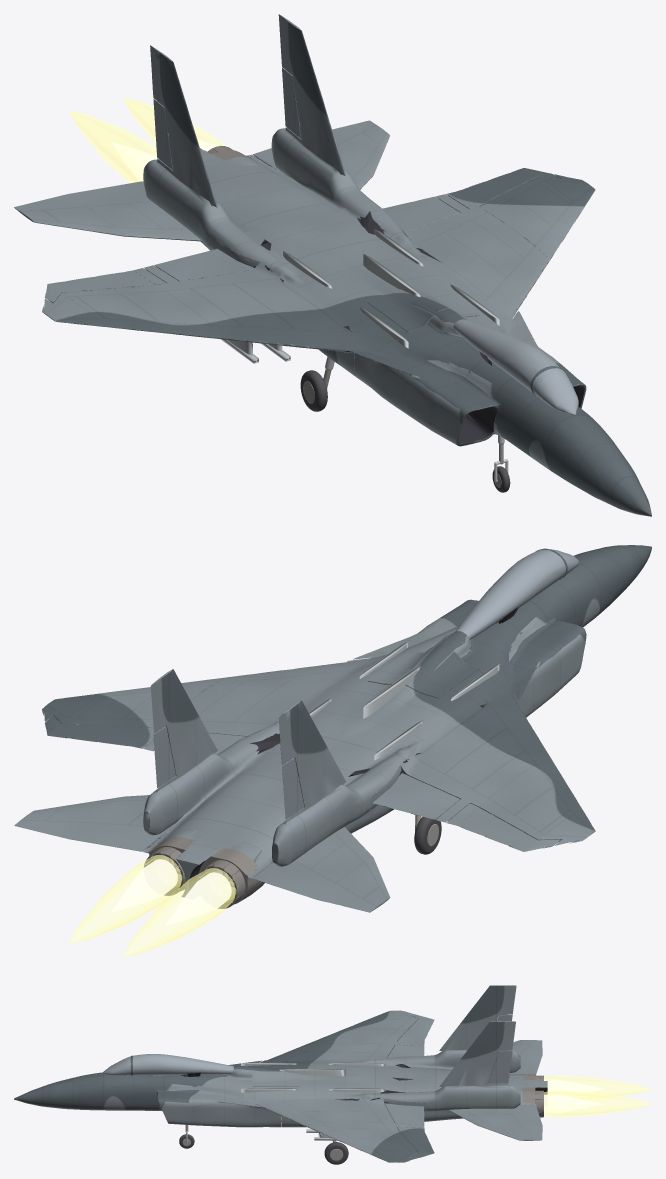
3 views of the same model, one above another, from view 1: azimuth 30°, elevation 25°; view 2: azimuth 150°, elevation 25°; view 3: azimuth 270°, elevation 25° (orthographic). The views are drawn at different scales.
Visible parts, largest first — view 1: fsim:section:tail, fsim:section:centre, fsim:section:nose, fsim:section:right-wing, fsim:section:left-wing, fsim:elevator+aileron:-0.5@-25,15, fsim:aileron (×2), fsim:flaps (×2), fsim:afterburner:1, fsim:elevator+aileron:0.5@-25,15, fsim:speedbrake:0.785398, fsim:rudder (×2) (+2 smaller); view 2: fsim:section:tail, fsim:section:centre, fsim:section:right-wing, fsim:section:nose, fsim:section:left-wing, fsim:elevator+aileron:-0.5@-25,15, fsim:elevator+aileron:0.5@-25,15, fsim:afterburner:1, fsim:afterburner:0, fsim:aileron (×2), fsim:speedbrake:0.785398, fsim:flaps (+3 smaller); view 3: fsim:section:tail, fsim:section:centre, fsim:section:nose, fsim:section:left-wing, fsim:section:right-wing, fsim:elevator+aileron:0.5@-25,15, fsim:afterburner:0, fsim:afterburner:1, fsim:aileron (×2), fsim:flaps (×2), fsim:speedbrake:0.785398, fsim:elevator+aileron:-0.5@-25,15 (+3 smaller).
Boxes of the visible parts, <box> form: fsim:section:tail: <box>143,14,377,250</box>; fsim:section:centre: <box>237,209,557,430</box>; fsim:section:nose: <box>428,330,651,516</box>; fsim:section:right-wing: <box>42,230,372,353</box>; fsim:section:left-wing: <box>362,174,595,320</box>; fsim:elevator+aileron:-0.5@-25,15: <box>14,181,202,241</box>; fsim:aileron (×2): <box>45,168,559,302</box>; fsim:flaps (×2): <box>154,196,459,281</box>; fsim:afterburner:1: <box>69,111,158,183</box>; fsim:elevator+aileron:0.5@-25,15: <box>253,120,389,189</box>; fsim:speedbrake:0.785398: <box>367,285,479,332</box>; fsim:rudder (×2): <box>153,67,301,170</box>; fsim:section:tail: <box>143,669,379,904</box>; fsim:section:centre: <box>243,587,562,826</box>; fsim:section:right-wing: <box>363,692,595,845</box>; fsim:section:nose: <box>435,545,651,690</box>; fsim:section:left-wing: <box>42,657,373,752</box>; fsim:elevator+aileron:-0.5@-25,15: <box>253,827,390,912</box>; fsim:elevator+aileron:0.5@-25,15: <box>14,795,176,851</box>; fsim:afterburner:1: <box>123,868,235,956</box>; fsim:afterburner:0: <box>69,855,181,943</box>; fsim:aileron (×2): <box>45,715,560,851</box>; fsim:speedbrake:0.785398: <box>368,644,479,698</box>; fsim:flaps: <box>372,773,460,819</box>; fsim:section:tail: <box>390,985,547,1121</box>; fsim:section:centre: <box>181,1057,423,1127</box>; fsim:section:nose: <box>14,1054,201,1125</box>; fsim:section:left-wing: <box>254,1094,428,1162</box>; fsim:section:right-wing: <box>260,1010,424,1062</box>; fsim:elevator+aileron:0.5@-25,15: <box>449,1105,542,1140</box>; fsim:afterburner:0: <box>544,1090,651,1117</box>; fsim:afterburner:1: <box>544,1075,651,1099</box>; fsim:aileron (×2): <box>397,1015,434,1157</box>; fsim:flaps (×2): <box>384,1044,424,1124</box>; fsim:speedbrake:0.785398: <box>252,1066,299,1086</box>; fsim:elevator+aileron:-0.5@-25,15: <box>510,1040,542,1074</box>.
Bounding box in the file's own units: 13.05 × 5.82 × 23.22.
13 materials, 1 textured.
